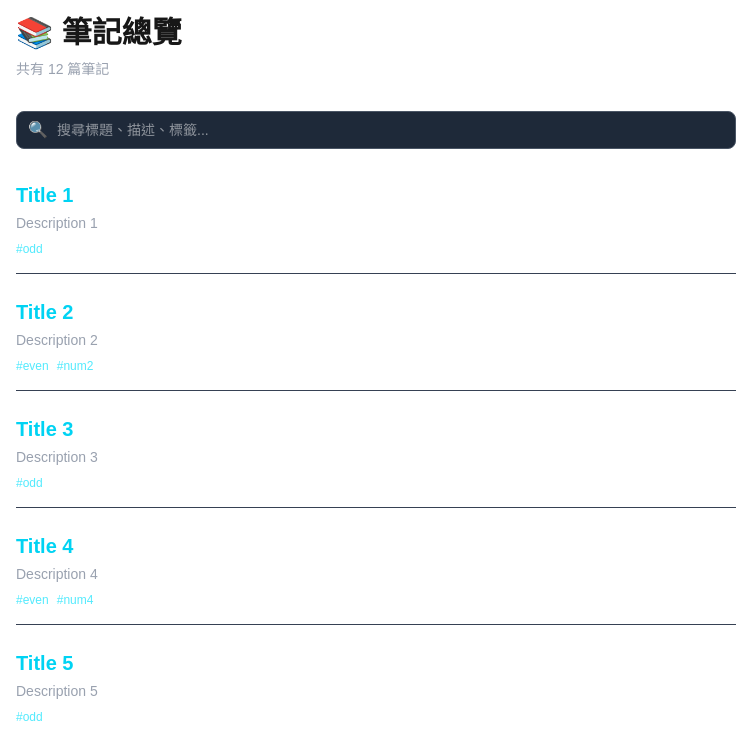
SearchNotes 組件整合測試 › 搜尋無結果時，顯示提示訊息
In the field with placeholder "搜尋標題、描述、標籤...": (376, 130) [16, 111, 736, 149], type "不存在關鍵字"
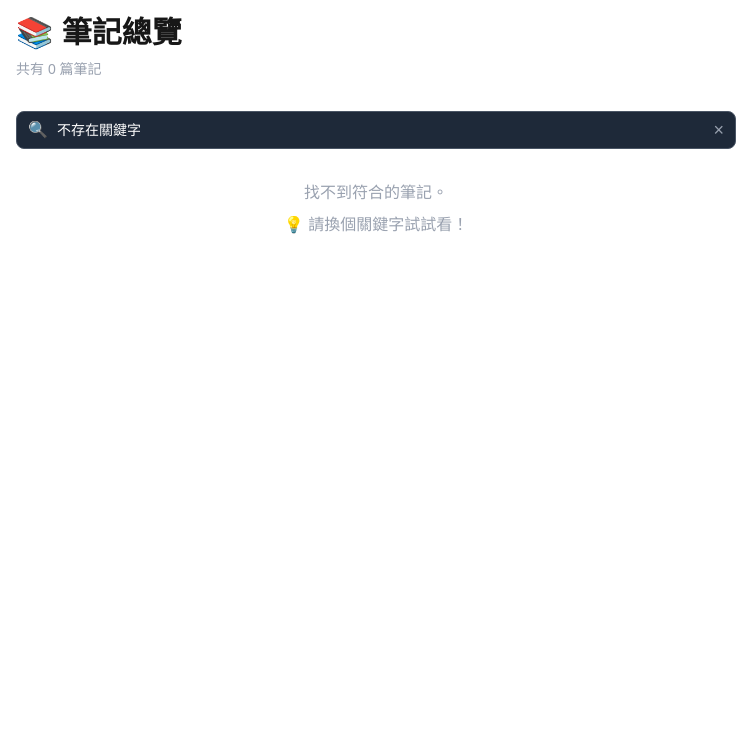
Expected: the text "找不到符合的筆記。" is shown, [304, 184, 448, 201]
Expected: the text "💡 請換個關鍵字試試看！" is shown, [284, 216, 468, 233]
Expected: the list item "Title 1 Description 1 #odd" is gone
